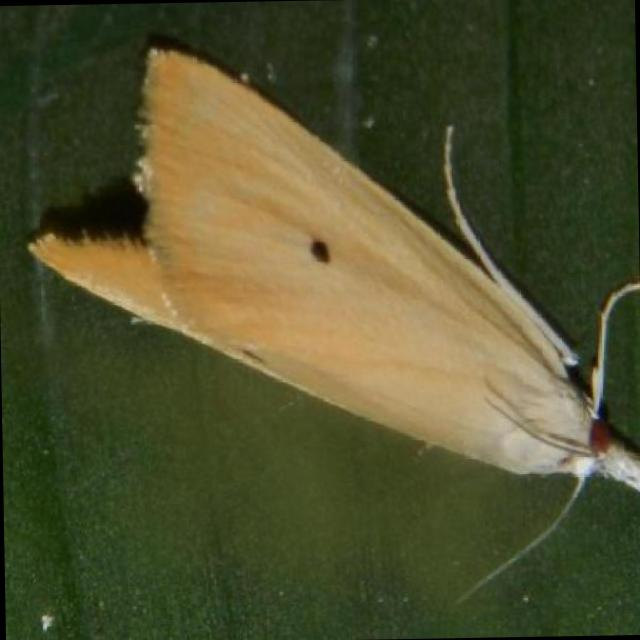stem-borer: (19, 29, 640, 558)
